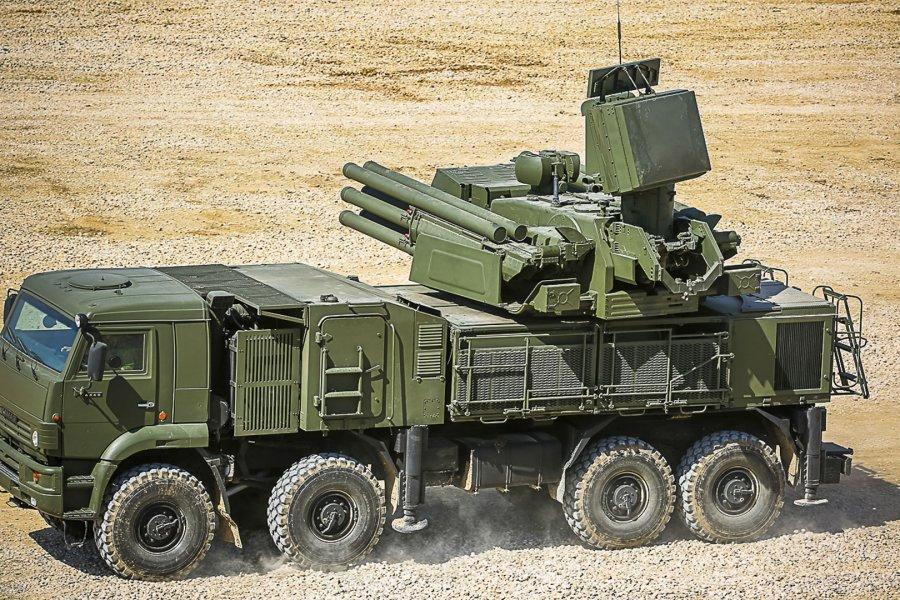truck: (3, 48, 872, 579)
